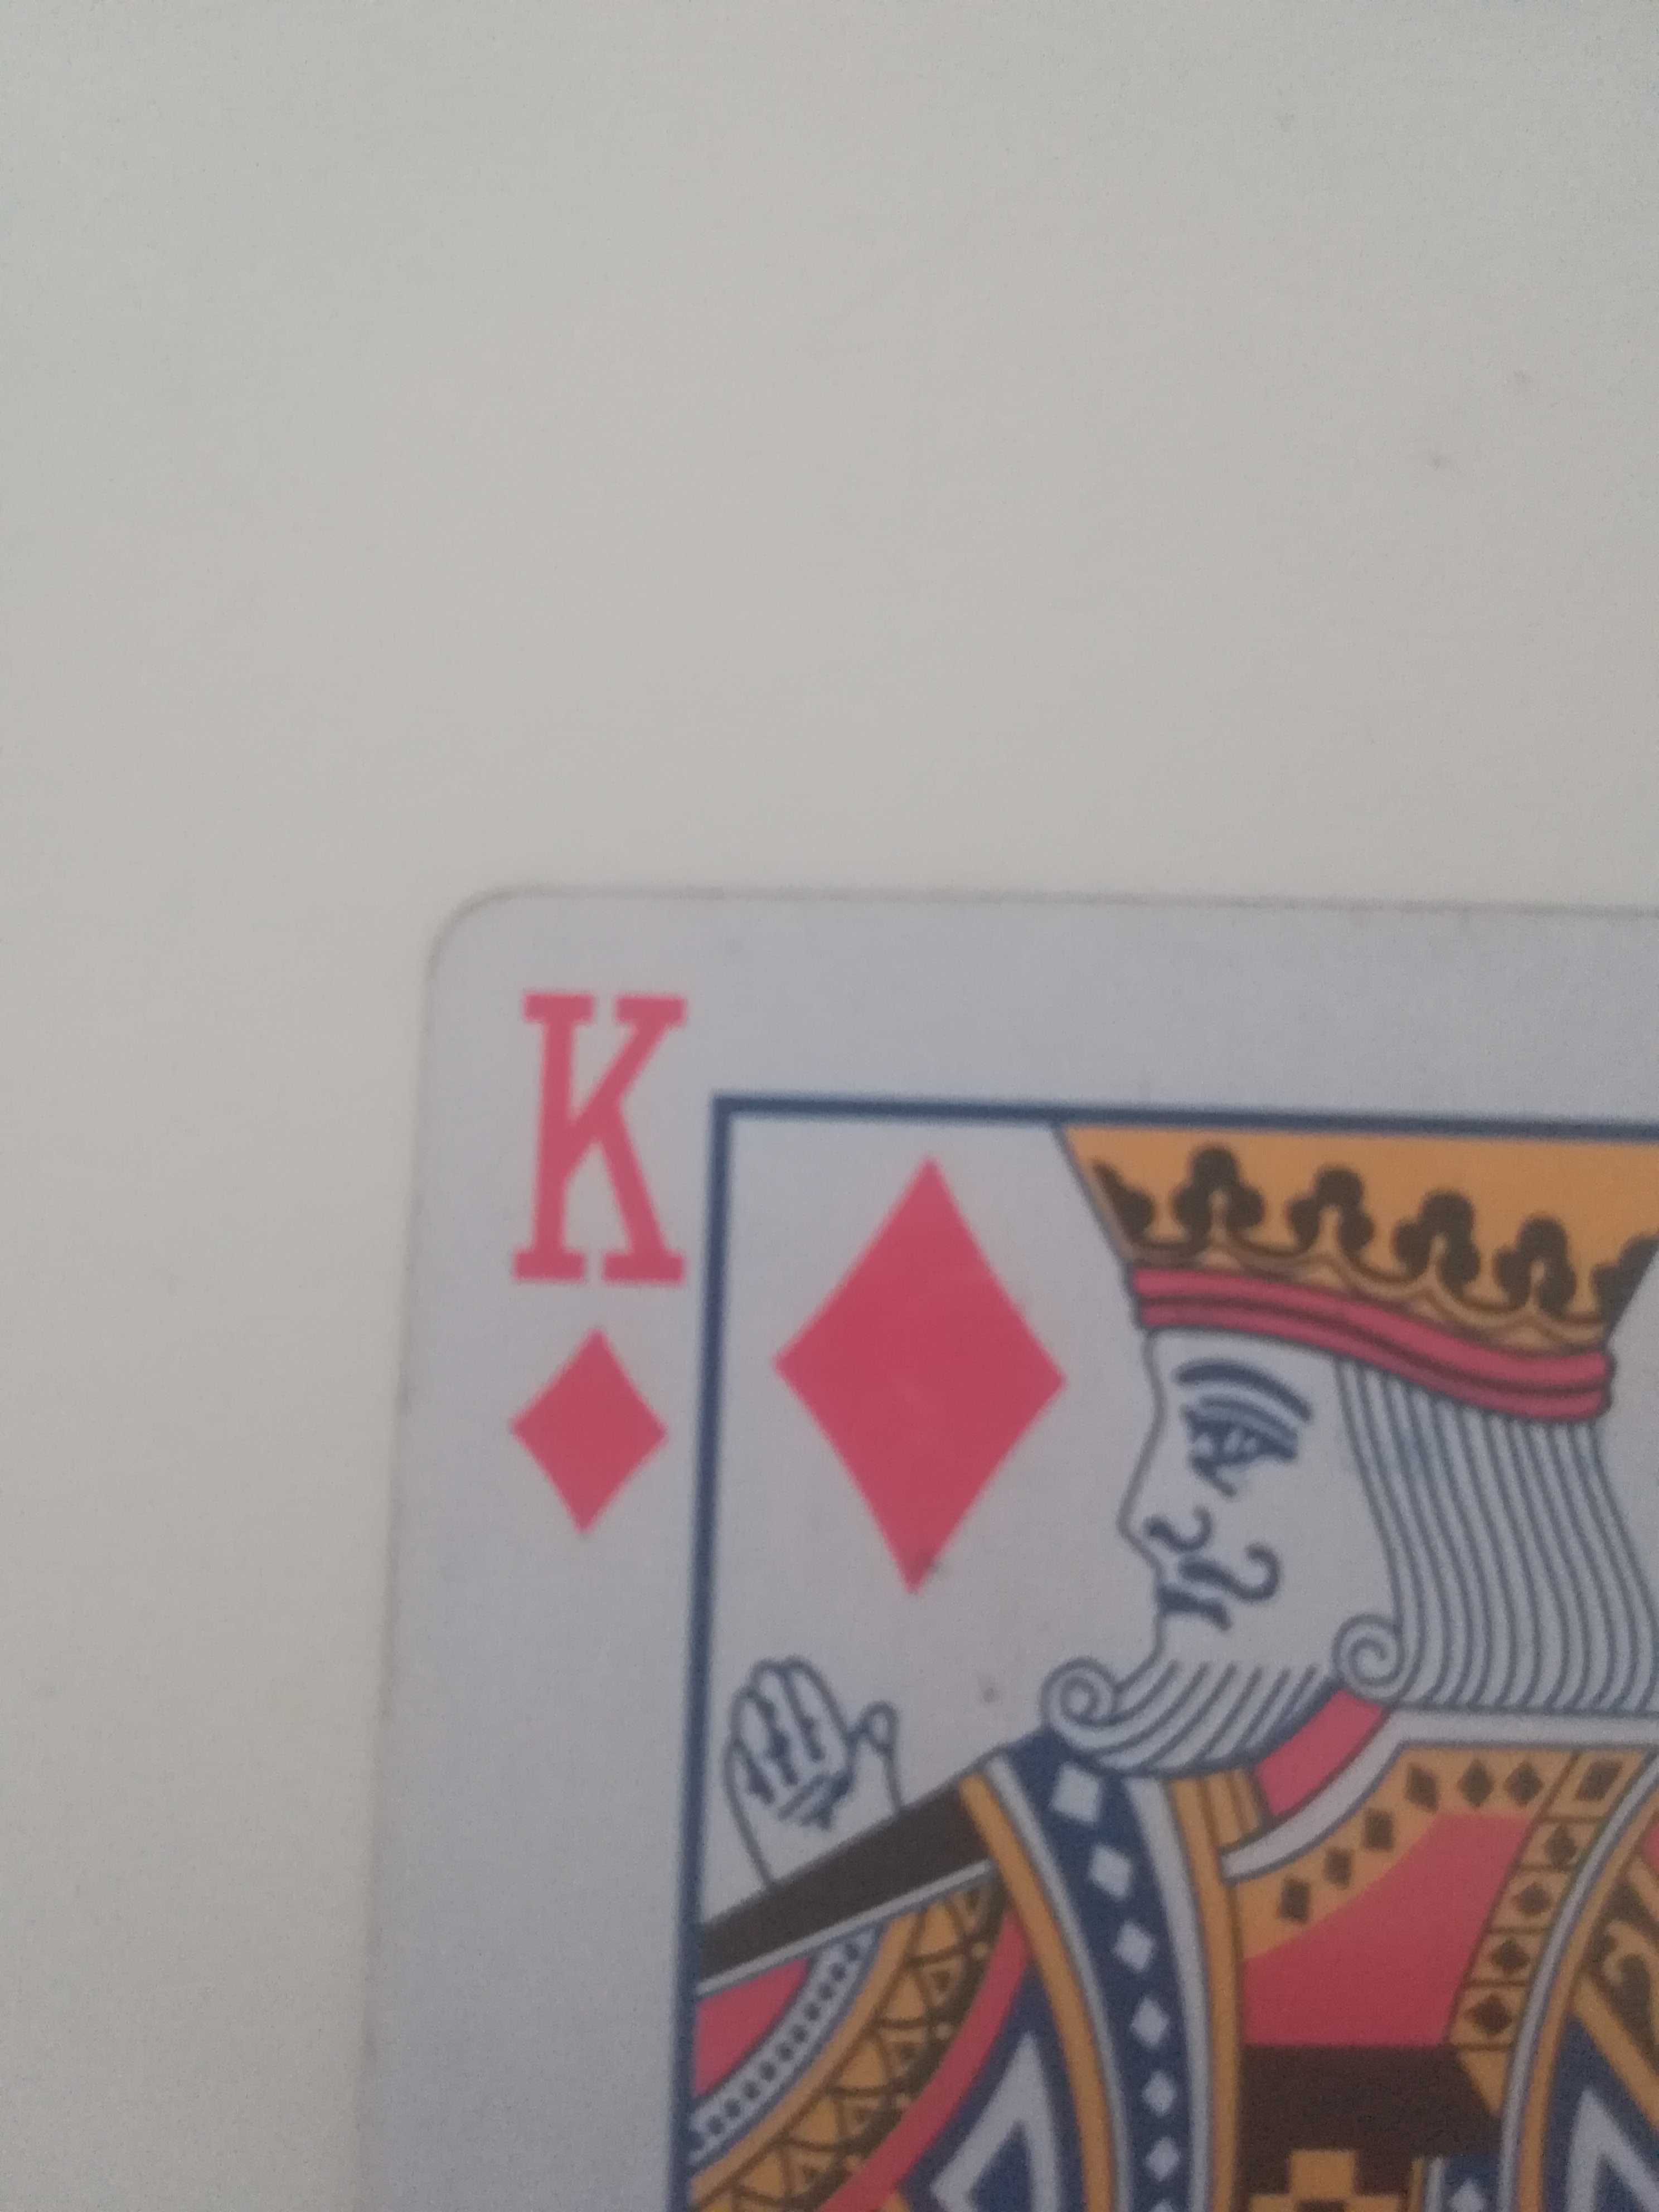KD: (359, 883, 1659, 2212)
